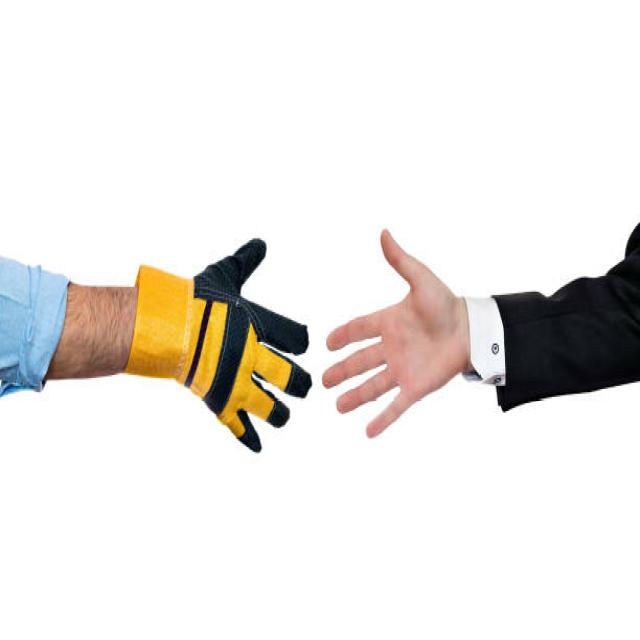Gloves: (121, 232, 324, 458)
